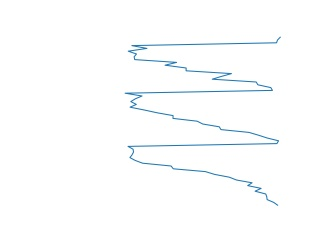distributaryMouthBar: (123, 36, 283, 208)
